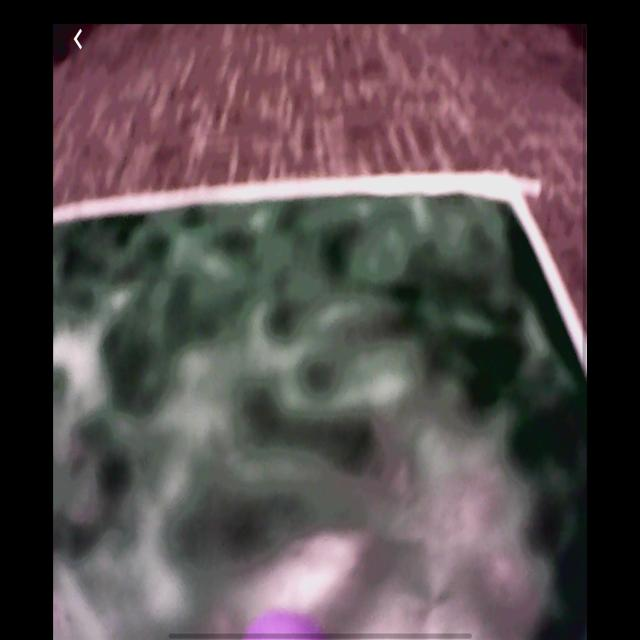ball: (243, 609, 329, 639)
